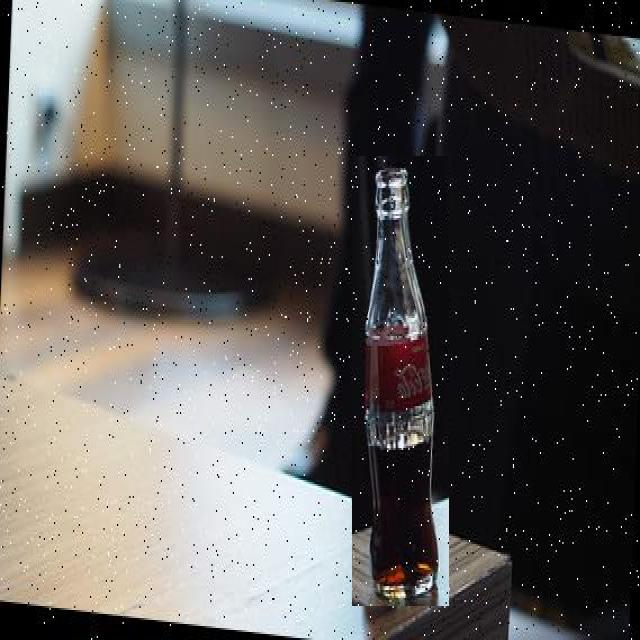coca-cola: (352, 156, 449, 606)
